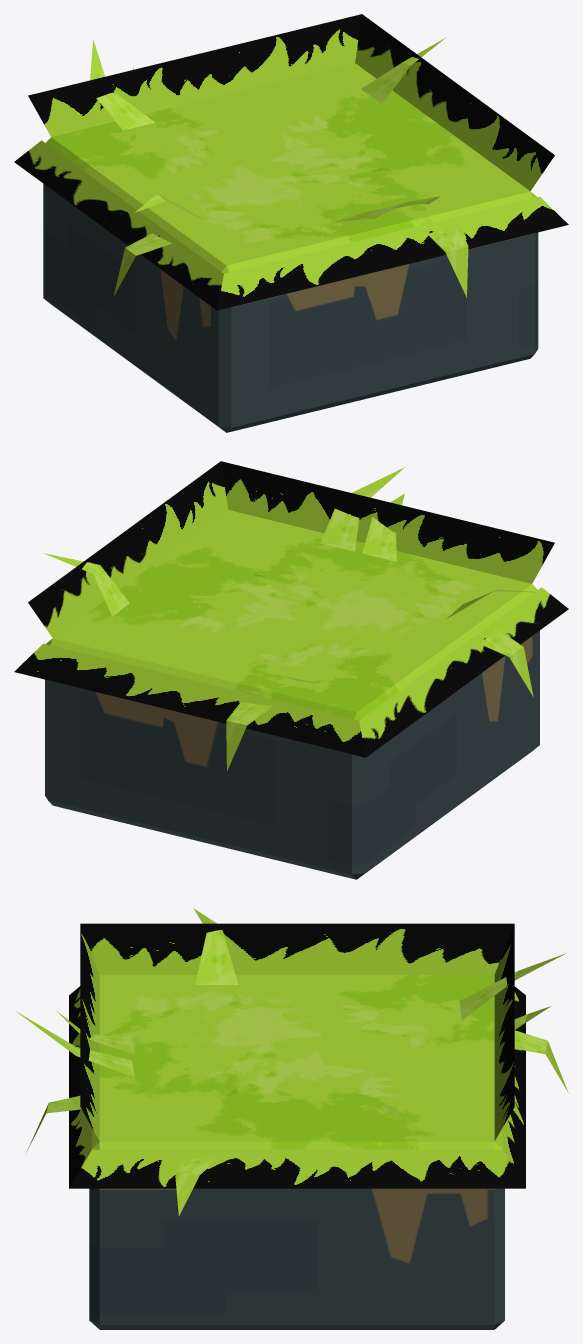
The model's file is tilegrass001.glb.
3 views of the same model, one above another, from view 1: azimuth 30°, elevation 25°; view 2: azimuth 150°, elevation 25°; view 3: azimuth 270°, elevation 25° (orthographic). The views are drawn at different scales.
Visible parts, largest first — view 1: tile_grass_01; view 2: tile_grass_01; view 3: tile_grass_01.
Boxes of the visible parts, x1,y1,x2,y2 form: tile_grass_01: (14, 14, 568, 432); tile_grass_01: (14, 461, 568, 879); tile_grass_01: (16, 908, 568, 1329).
Size of the model in its own units: 1.29 by 0.6672 by 1.34.
2 materials, 2 textured.
